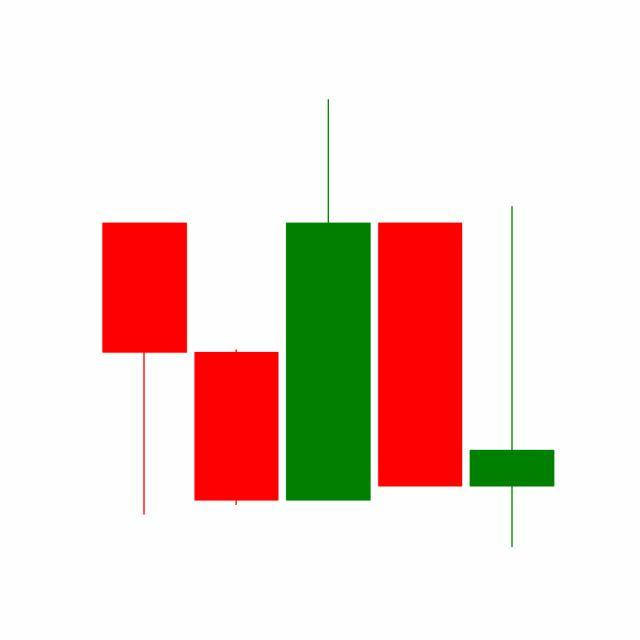Spinning Top: (466, 203, 559, 552)
